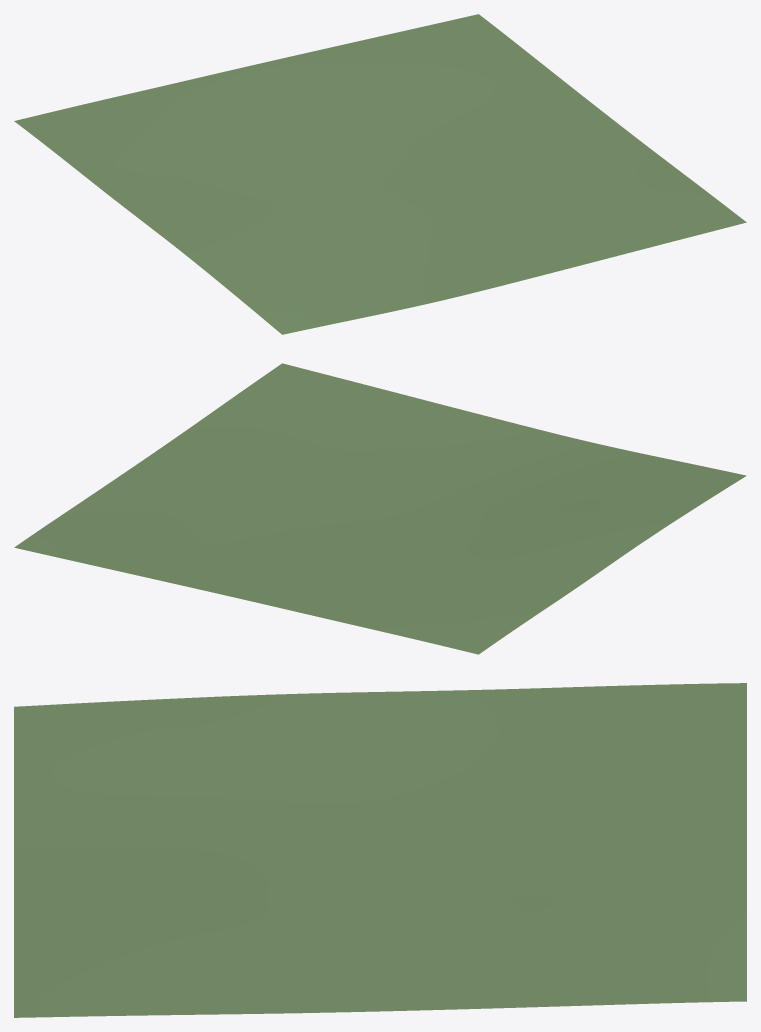
Rendered from floor_001_chunk_x-03_z+15_lod1.glb.
3 views of the same model, one above another, from view 1: azimuth 30°, elevation 25°; view 2: azimuth 150°, elevation 25°; view 3: azimuth 270°, elevation 25° (orthographic). The views are drawn at different scales.
Parts seen in each view (by area): view 1: floor_001_chunk_x-03_z+15_lod1; view 2: floor_001_chunk_x-03_z+15_lod1; view 3: floor_001_chunk_x-03_z+15_lod1.
Boxes of the visible parts, <box> form: floor_001_chunk_x-03_z+15_lod1: <box>14,14,746,334</box>; floor_001_chunk_x-03_z+15_lod1: <box>14,363,746,654</box>; floor_001_chunk_x-03_z+15_lod1: <box>14,683,746,1017</box>.
Size of the model in its own units: 256 by 11.65 by 256.
